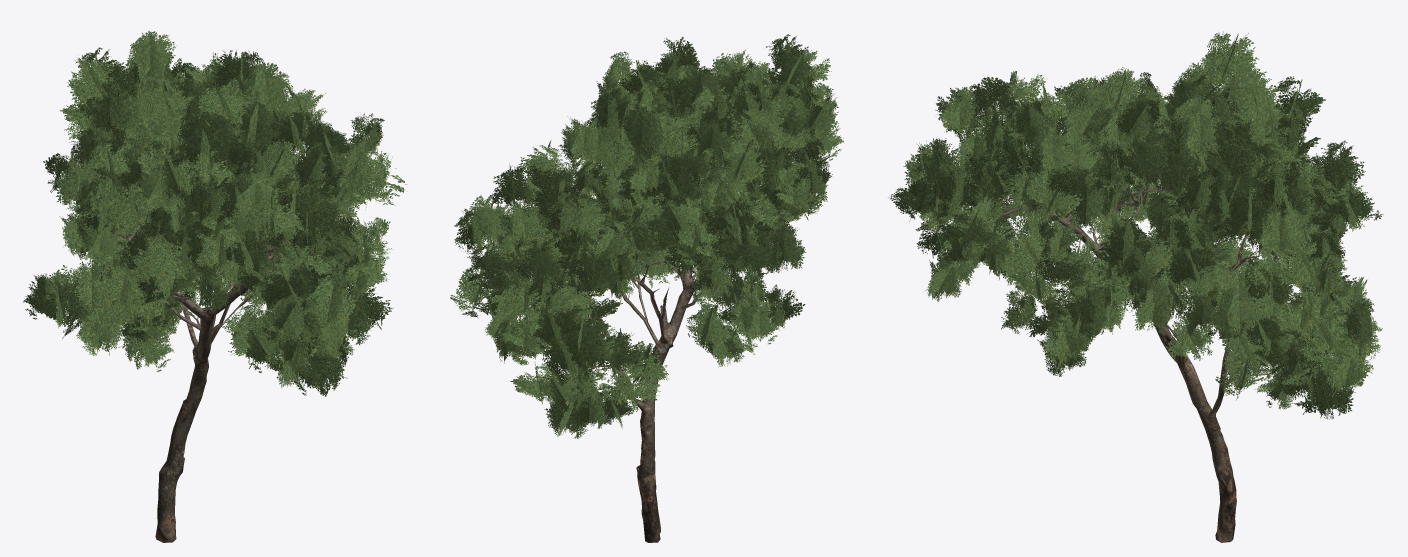
The model's file is tree-small-02.glb.
3 renders of one model, left to right at view 1: azimuth 30°, elevation 25°; view 2: azimuth 150°, elevation 25°; view 3: azimuth 270°, elevation 25°, orthographic. The views are drawn at different scales.
Visible parts, largest first — view 1: tree_small_02_LOD0; view 2: tree_small_02_LOD0; view 3: tree_small_02_LOD0.
Boxes of the visible parts, x1,y1,x2,y2 form: tree_small_02_LOD0: [23, 31, 406, 542]; tree_small_02_LOD0: [450, 34, 843, 542]; tree_small_02_LOD0: [888, 31, 1383, 542].
Size of the model in its own units: 3.35 by 4.83 by 4.66.
3 materials, 3 textured.
